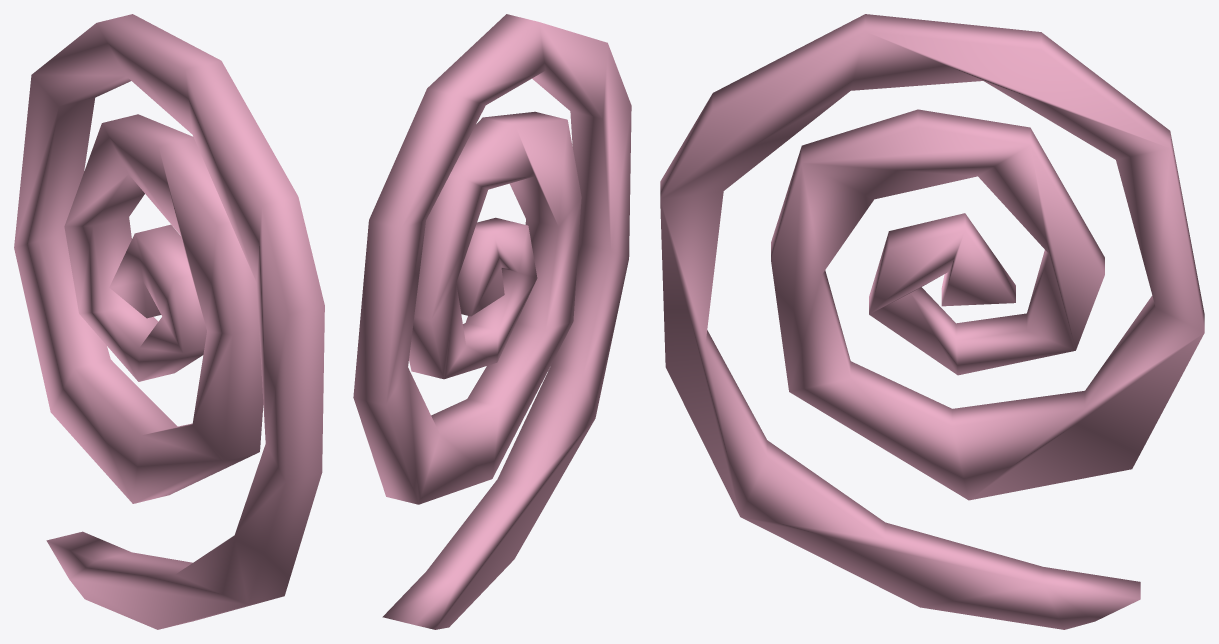
Rendered from psychic.fbx.
The picture shows the model from 3 angles, left to right: view 1: azimuth 30°, elevation 25°; view 2: azimuth 150°, elevation 25°; view 3: azimuth 270°, elevation 25°; orthographic projection. The views are drawn at different scales.
Parts seen in each view (by area): view 1: Circle; view 2: Circle; view 3: Circle.
Boxes of the visible parts, x1=… form: Circle: x1=14, y1=14, x2=324, y2=629; Circle: x1=353, y1=14, x2=631, y2=629; Circle: x1=660, y1=14, x2=1204, y2=629.
Size of the model in its own units: 7.68 by 122 by 100.
